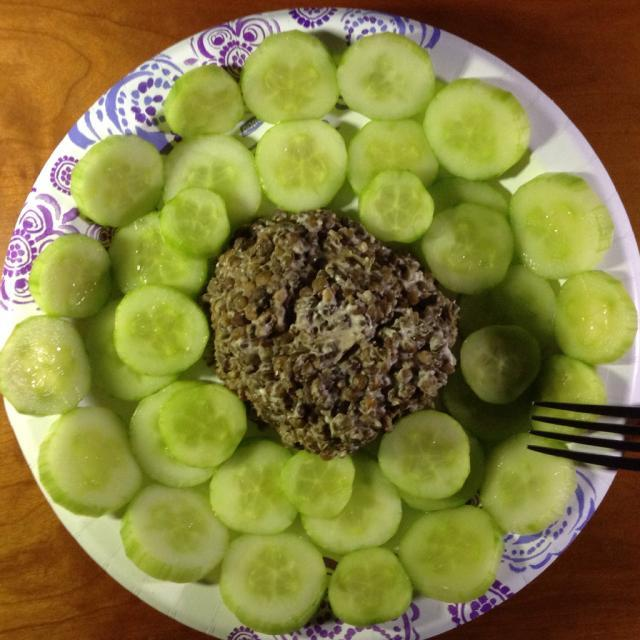Zucchini: (0, 35, 634, 625), (108, 280, 213, 379)
